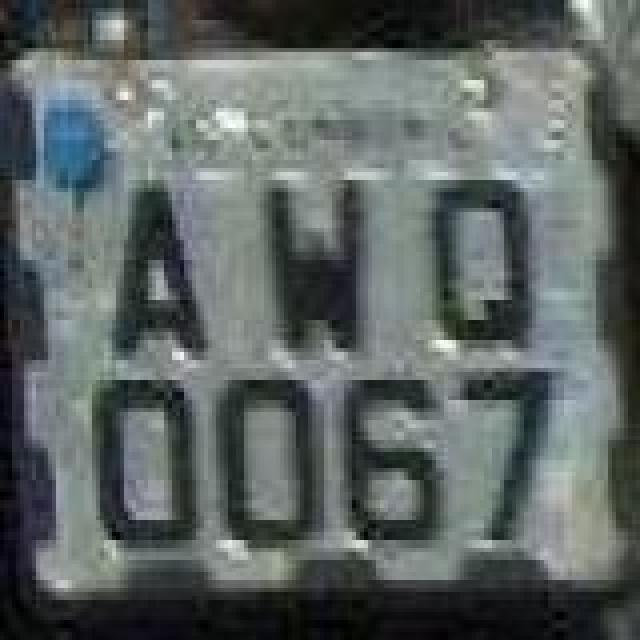6: (340, 374, 444, 546)
7: (456, 366, 560, 546)
A: (106, 182, 206, 362)
O: (88, 374, 200, 554), (212, 374, 324, 554)
Q: (432, 174, 536, 354)
W: (256, 168, 368, 360)
